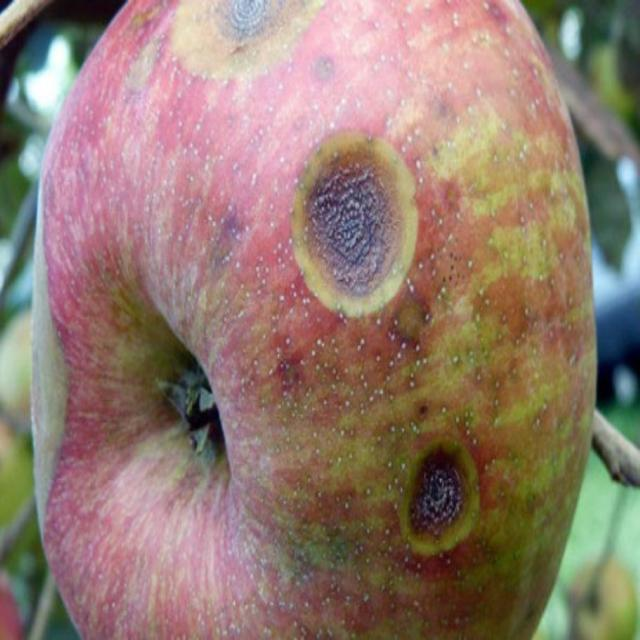Rotten Apple: (39, 21, 578, 606)
